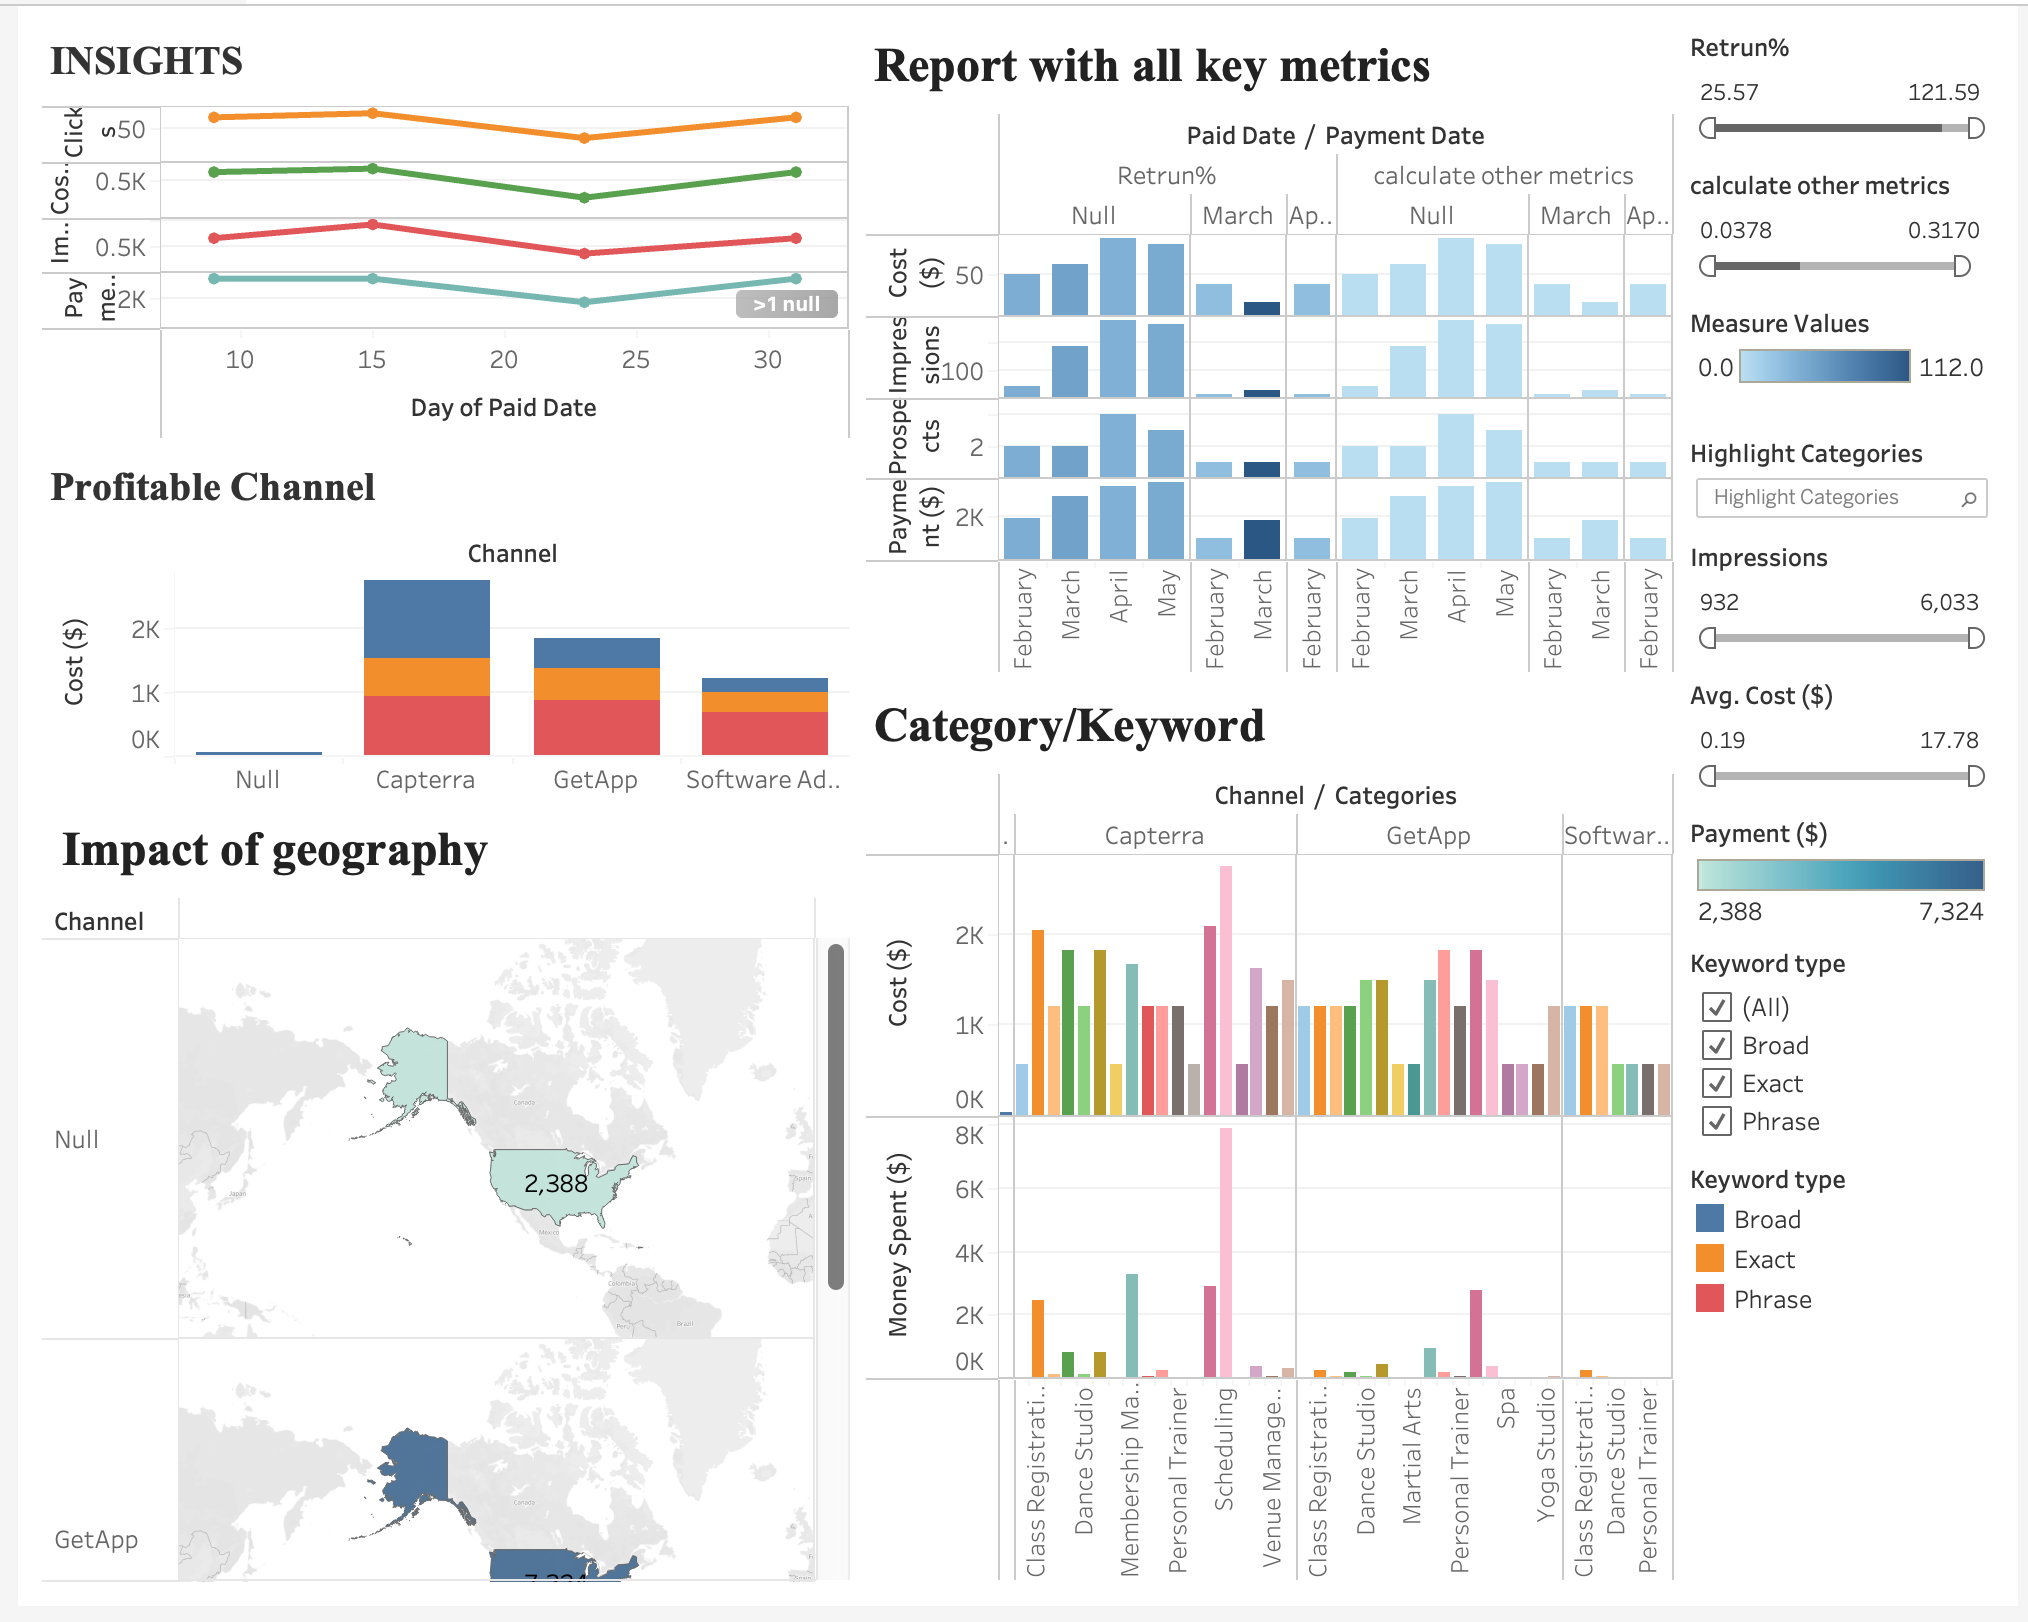

This screenshot's page, from the dashboard's own definition file:
{"tool":"tableau","page":{"name":"Dashboard 1","canvas":[1000,800],"ordinal":0},"visuals":[{"type":"worksheet","title":"Sheet 2 (2)","mark":"Automatic","rows":["Clicks","Cost ($)","Impressions","Payment ($)"],"cols":["Paid Date"],"box":[8,8,412,213]},{"type":"worksheet","title":"Sheet 1","mark":"Bar","rows":["Cost ($)","Impressions","Prospects","Payment ($)"],"cols":["Paid Date","Payment Date"],"box":[420,8,412,330]},{"type":"filter","title":"Sheet 1","param":"[federated.06csk8u094l3ow18qcfn30ir9ek1].[usr:Calculation_1926696266024144896:qk","box":[832,8,160,69]},{"type":"filter","title":"Sheet 1","param":"[federated.06csk8u094l3ow18qcfn30ir9ek1].[usr:Calculation_1926696266024771585:qk","box":[832,77,160,69]},{"type":"legend","title":"Sheet 1","param":"[federated.06csk8u094l3ow18qcfn30ir9ek1].[Multiple Values]","box":[832,146,160,65]},{"type":"highlighter","title":"Sheet 4","param":"[federated.06csk8u094l3ow18qcfn30ir9ek1].[none:Categories:nk]","box":[832,211,160,52]},{"type":"worksheet","title":"Sheet 3","mark":"Automatic","rows":["Cost ($)"],"cols":["Channel"],"box":[8,221,412,179]},{"type":"filter","title":"Sheet 5","param":"[federated.06csk8u094l3ow18qcfn30ir9ek1].[sum:Impressions:qk]","box":[832,263,160,69]},{"type":"filter","title":"Sheet 5","param":"[federated.06csk8u094l3ow18qcfn30ir9ek1].[avg:Cost ($):qk]","box":[832,332,160,69]},{"type":"worksheet","title":"Sheet 4","mark":"Automatic","rows":["Cost ($)","Money Spent ($)"],"cols":["Channel","Categories"],"box":[420,338,412,454]},{"type":"worksheet","title":"Sheet 5","mark":"Automatic","rows":["Channel"],"box":[8,400,412,392]},{"type":"legend","title":"Sheet 5","param":"[federated.06csk8u094l3ow18qcfn30ir9ek1].[sum:Payment ($):qk]","box":[832,401,160,65]},{"type":"filter","title":"Sheet 3","param":"[federated.06csk8u094l3ow18qcfn30ir9ek1].[none:Keyword type:nk]","box":[832,466,160,108]},{"type":"legend","title":"Sheet 3","param":"[federated.06csk8u094l3ow18qcfn30ir9ek1].[none:Keyword type:nk]","box":[832,574,160,86]}]}

Visuals, with their boxes in screenshot pixels (x1, y1, x2, y2), scaled from the page's 1000x800 canvas onto the 2028x1622 screenshot:
"Sheet 2 (2)" worksheet: 16:16:852:448
"Sheet 1" worksheet (Bar marks): 852:16:1687:685
"Sheet 1" filter: 1687:16:2012:156
"Sheet 1" filter: 1687:156:2012:296
"Sheet 1" legend: 1687:296:2012:428
"Sheet 4" highlighter: 1687:428:2012:533
"Sheet 3" worksheet: 16:448:852:811
"Sheet 5" filter: 1687:533:2012:673
"Sheet 5" filter: 1687:673:2012:813
"Sheet 4" worksheet: 852:685:1687:1606
"Sheet 5" worksheet: 16:811:852:1606
"Sheet 5" legend: 1687:813:2012:945
"Sheet 3" filter: 1687:945:2012:1164
"Sheet 3" legend: 1687:1164:2012:1338
